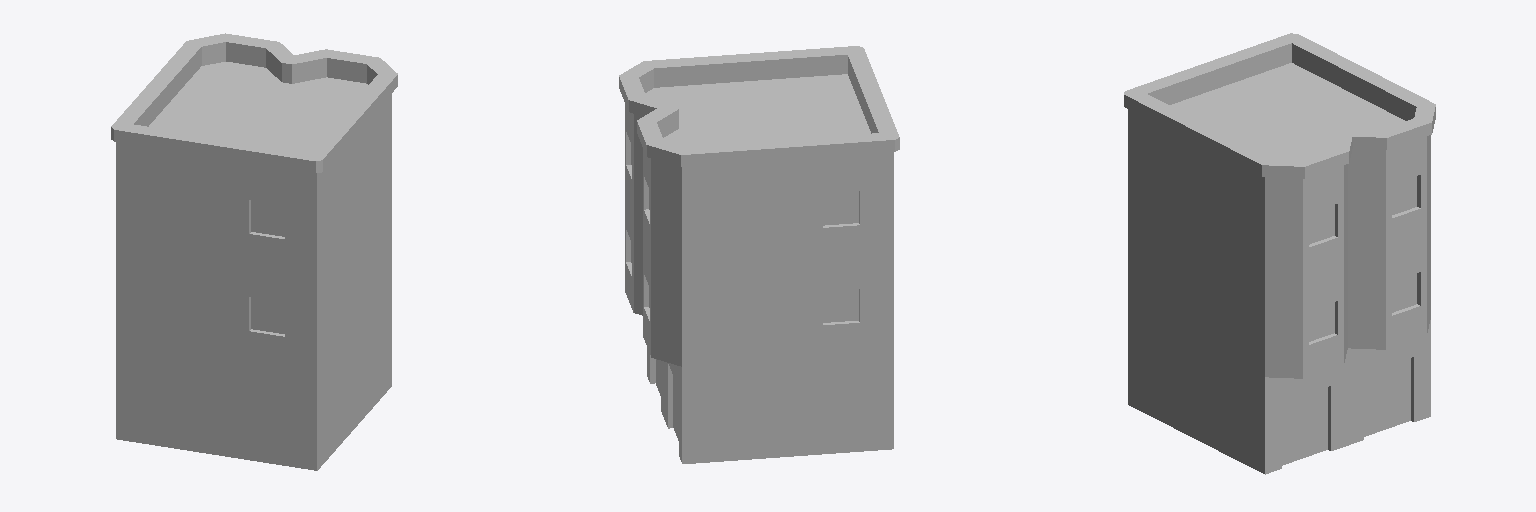
Rendered from variant_43.obj.
3 renders of one model, left to right at view 1: azimuth 30°, elevation 25°; view 2: azimuth 150°, elevation 25°; view 3: azimuth 270°, elevation 25°, orthographic.
Parts seen in each view (by area): view 1: small_buildingA; view 2: small_buildingA; view 3: small_buildingA.
Part boxes in pixels (left/top/right/bottom): small_buildingA: left=111, top=33, right=397, bottom=470; small_buildingA: left=619, top=46, right=899, bottom=463; small_buildingA: left=1124, top=33, right=1435, bottom=474.
Size of the model in its own units: 1.18 by 1.28 by 1.16.